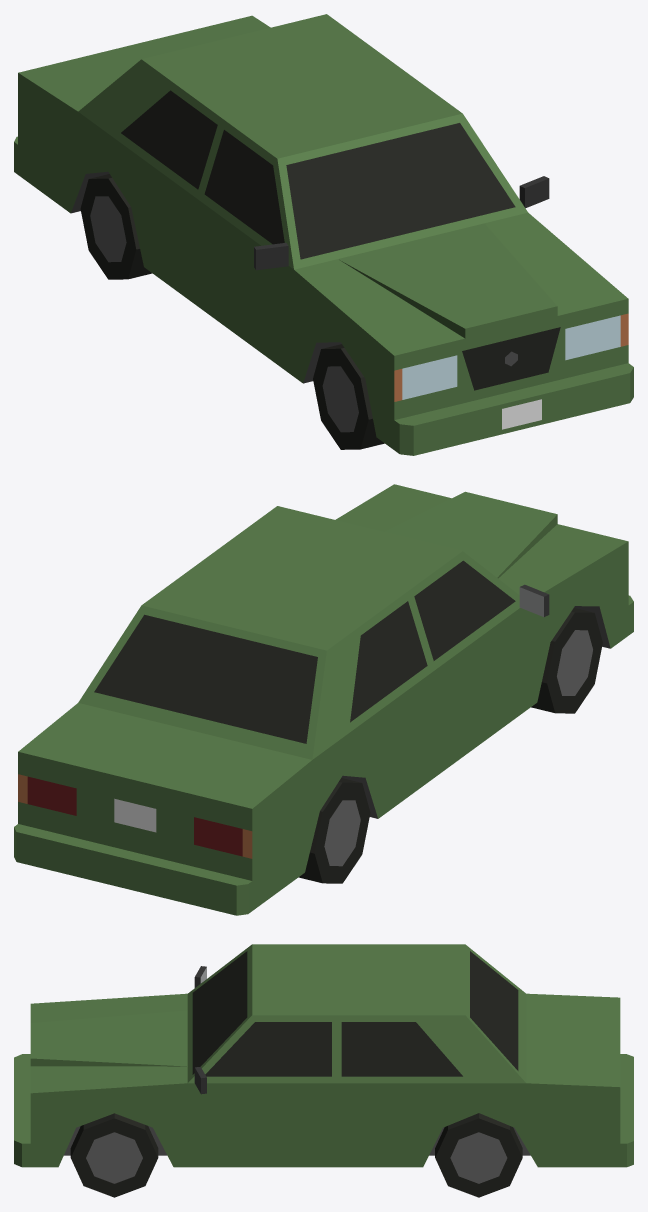
Rendered from Veh_Sedan_02_Green.glb.
3 views of the same model, one above another, from view 1: azimuth 30°, elevation 25°; view 2: azimuth 150°, elevation 25°; view 3: azimuth 270°, elevation 25° (orthographic). The views are drawn at different scales.
Visible parts, largest first — view 1: Sedan_02_Green, Wheel_FR, Wheel_RR; view 2: Sedan_02_Green, Wheel_FR, Wheel_RR; view 3: Sedan_02_Green, Wheel_FL, Wheel_RL.
Boxes of the visible parts, x1,y1,x2,y2 form: Sedan_02_Green: [14, 14, 633, 455]; Wheel_FR: [313, 344, 384, 449]; Wheel_RR: [80, 174, 152, 279]; Sedan_02_Green: [14, 484, 633, 915]; Wheel_FR: [531, 608, 602, 713]; Wheel_RR: [298, 778, 370, 883]; Sedan_02_Green: [14, 944, 633, 1167]; Wheel_FL: [70, 1113, 158, 1197]; Wheel_RL: [435, 1113, 522, 1197].
Size of the model in its own units: 1.16 by 0.8379 by 2.72.
Materials: 1 (1 with a texture image).
